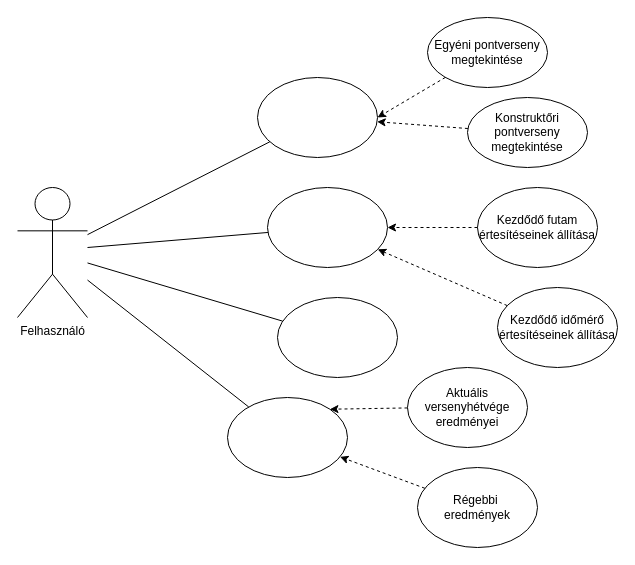
The diagram is 635 pixels wide and 565 high, and some of its shapes have lost their labels. The centre of each missing label's shape, as x and y in pixels:
Eredmények megtekintése: [287,437]
Következő futam adatainak megtekintése: [337,337]
Pontverseny állásának megtekintése: [317,117]
Értesítések be/kikapcsolása: [327,227]
